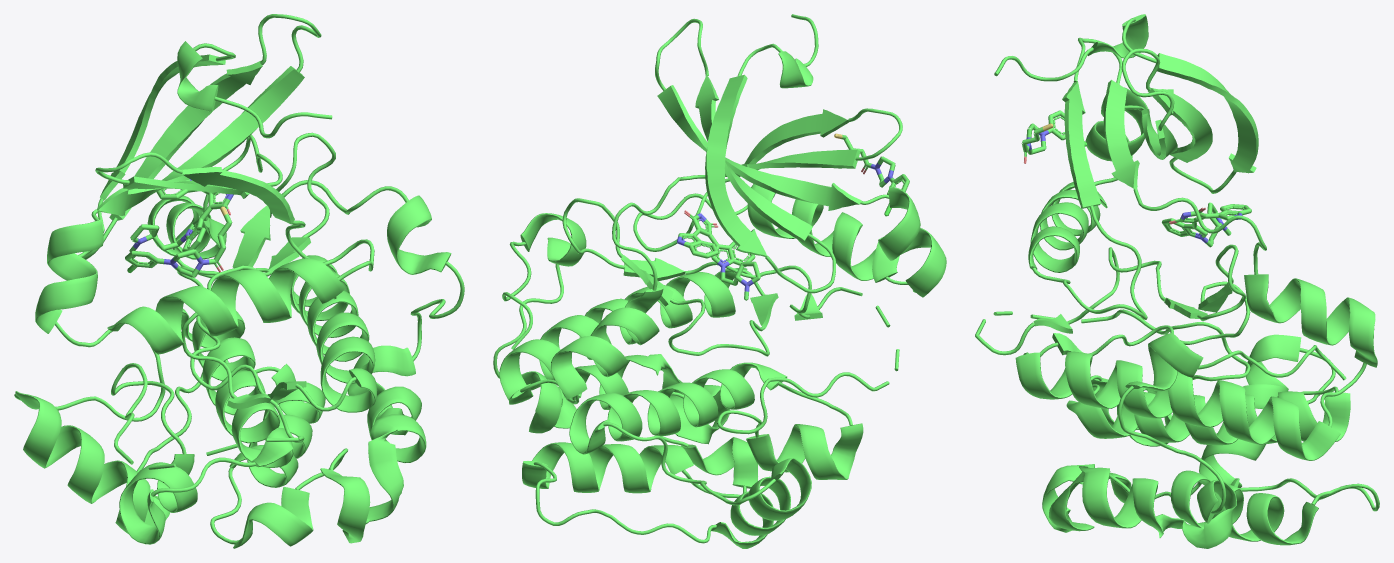
3 renders of one model, left to right at view 1: azimuth 30°, elevation 25°; view 2: azimuth 150°, elevation 25°; view 3: azimuth 270°, elevation 25°, orthographic. The views are drawn at different scales.
Visible parts, largest first — view 1: node-geom151, node-geom152, node-geom153; view 2: node-geom151, node-geom152, node-geom153; view 3: node-geom151, node-geom152, node-geom153.
Part boxes in pixels (<box>): node-geom151: <box>35,14,377,412</box>; node-geom152: <box>14,132,426,548</box>; node-geom153: <box>270,180,464,543</box>; node-geom151: <box>499,14,946,404</box>; node-geom152: <box>522,198,899,548</box>; node-geom153: <box>493,213,713,444</box>; node-geom151: <box>994,14,1377,460</box>; node-geom152: <box>975,244,1379,548</box>; node-geom153: <box>1042,333,1346,537</box>.
Bounding box in the file's own units: 4.78e-09 × 5.48e-09 × 4.07e-09.
